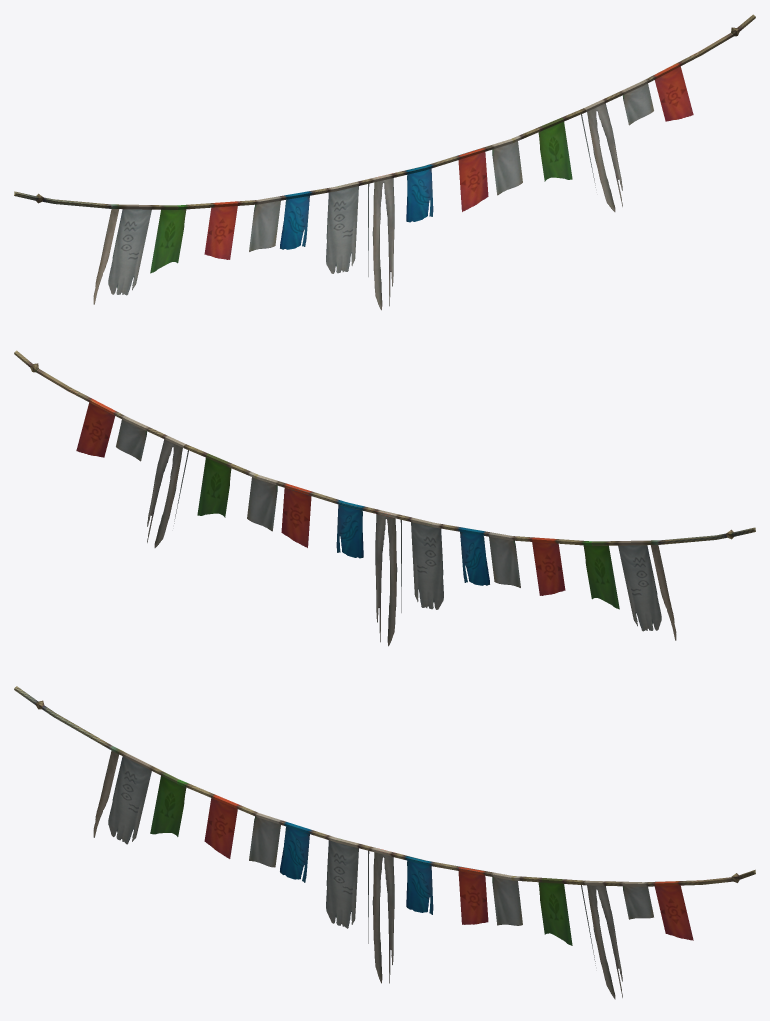
The model's file is zhucheng_qizi.FBX.
3 views of the same model, one above another, from view 1: azimuth 30°, elevation 25°; view 2: azimuth 150°, elevation 25°; view 3: azimuth 330°, elevation 25° (orthographic).
Visible parts, largest first — view 1: zhucheng_qizi; view 2: zhucheng_qizi; view 3: zhucheng_qizi.
Boxes of the visible parts, <box> form: zhucheng_qizi: <box>14,14,755,310</box>; zhucheng_qizi: <box>14,350,755,646</box>; zhucheng_qizi: <box>14,686,755,999</box>.
Size of the model in its own units: 411 by 4.96 by 114.
